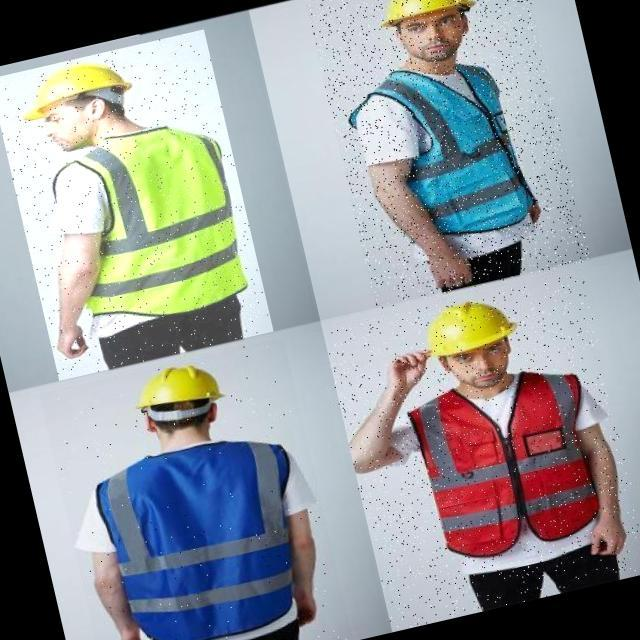Helmet: (12, 50, 140, 122), (412, 288, 524, 363), (126, 356, 233, 419), (371, 0, 480, 31)
Human: (321, 271, 640, 632), (0, 29, 273, 381), (38, 337, 353, 640), (305, 0, 590, 309)
Safety Vest: (37, 109, 261, 344), (83, 429, 315, 640), (397, 348, 618, 563), (334, 41, 550, 257)
